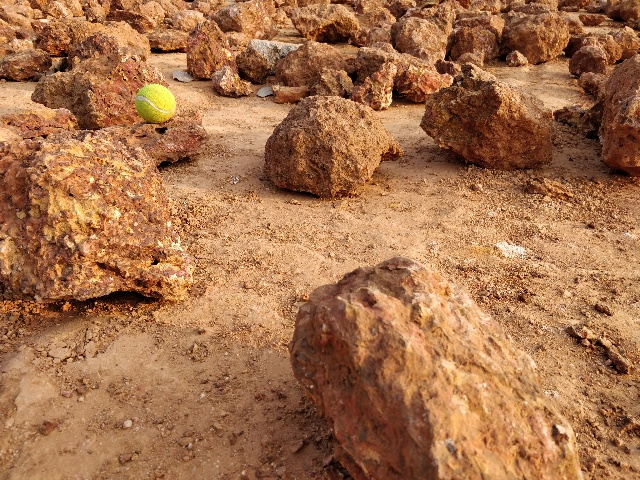ball: (133, 81, 181, 125)
